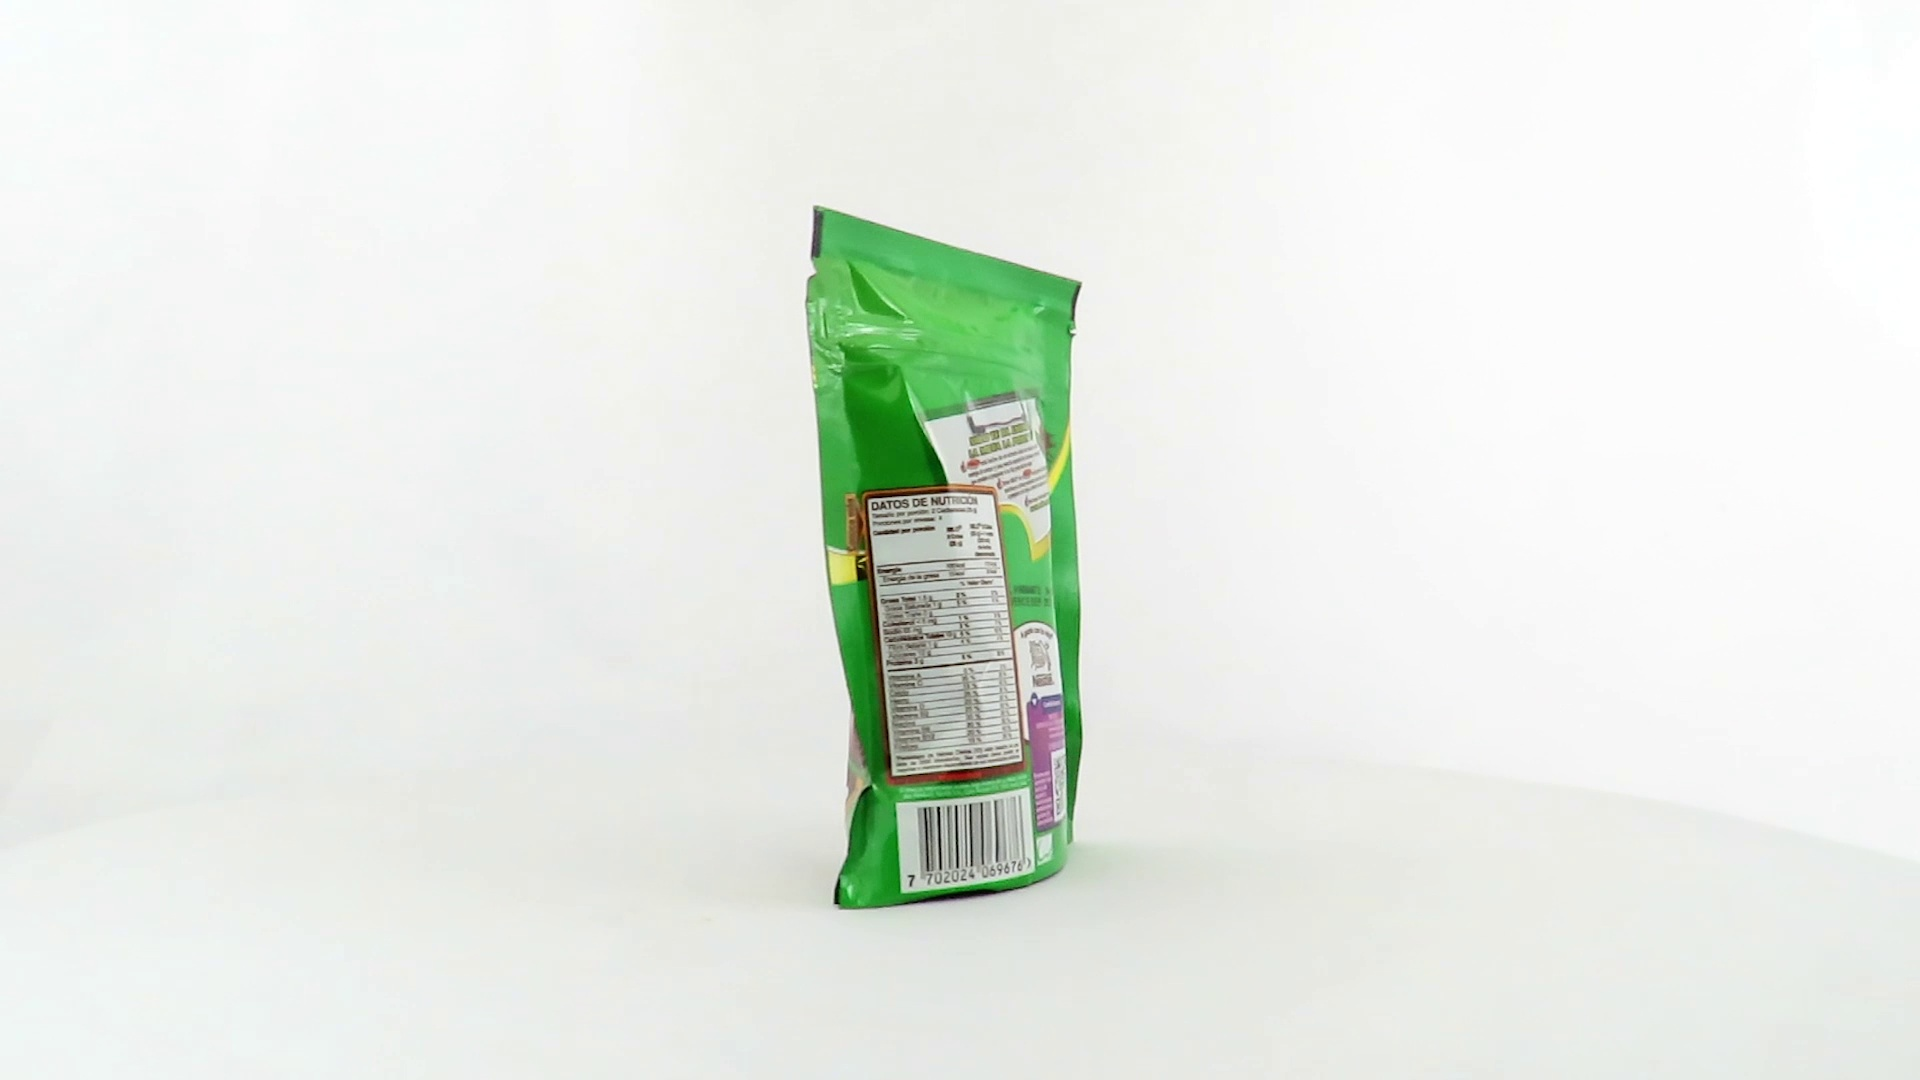COL0170203DYP10000: (800, 200, 1089, 916)
